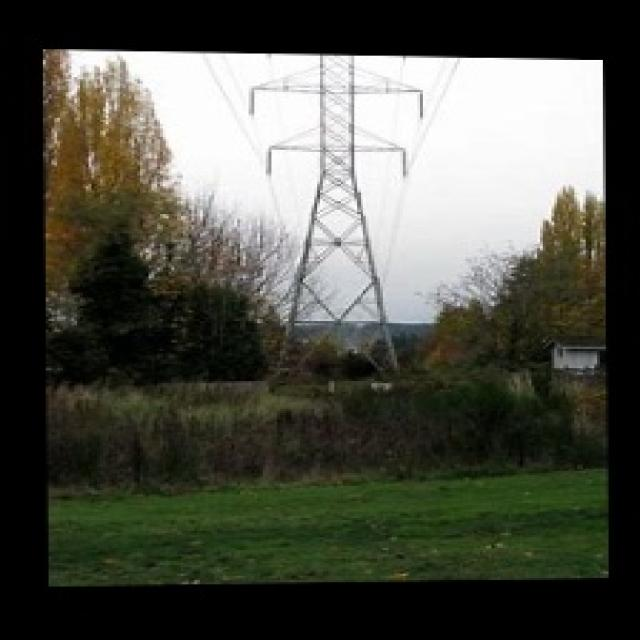utility poles: (209, 225, 326, 374), (353, 278, 468, 380)
